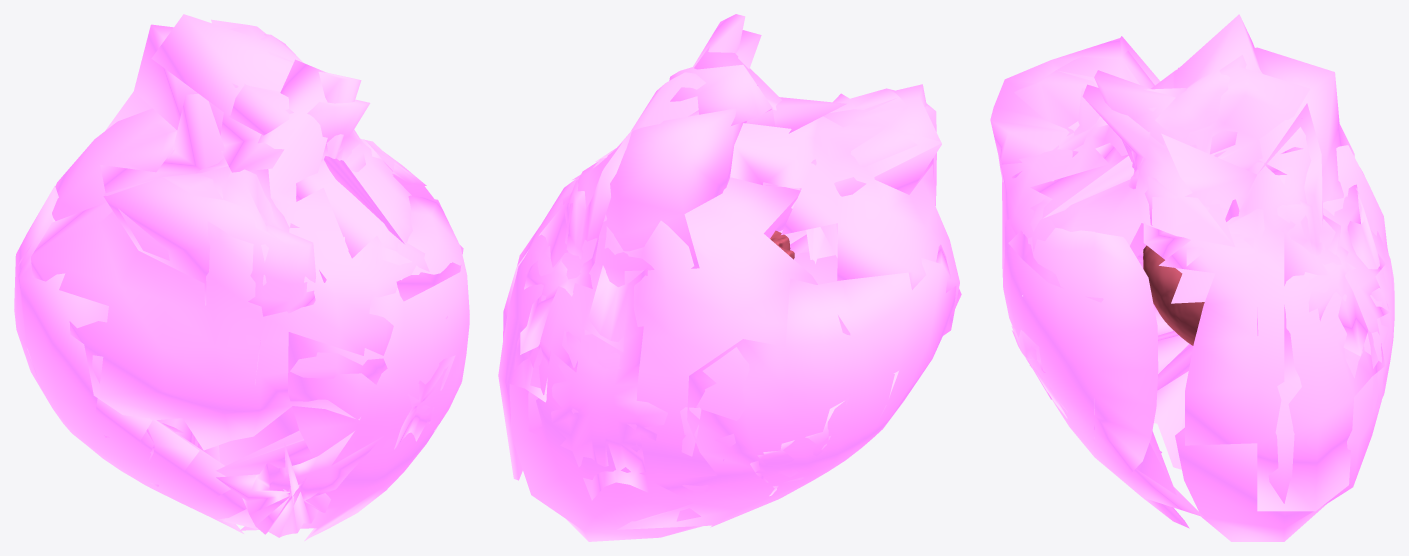
The model's file is heart-organ-progressing-1.glb.
The picture shows the model from 3 angles, left to right: view 1: azimuth 30°, elevation 25°; view 2: azimuth 150°, elevation 25°; view 3: azimuth 270°, elevation 25°; orthographic projection. The views are drawn at different scales.
Parts seen in each view (by area): view 1: Amyloid_1, Amyloid_0, Amyloid_4, Amyloid_3, Amyloid_2, Amyloid_5, Amyloid_6; view 2: Amyloid_2, Amyloid_3, Amyloid_1, Amyloid_6, Amyloid_4, Amyloid_0; view 3: Amyloid_6, Amyloid_0, Amyloid_4, Amyloid_2, Amyloid_1, Amyloid_3, mesh_base_material_0.
Part boxes in pixels (x1=…): Amyloid_1: x1=31, y1=59, x2=447, y2=450; Amyloid_0: x1=216, y1=195, x2=469, y2=541; Amyloid_4: x1=151, y1=14, x2=463, y2=301; Amyloid_3: x1=14, y1=186, x2=246, y2=533; Amyloid_2: x1=18, y1=108, x2=299, y2=465; Amyloid_5: x1=216, y1=431, x2=383, y2=537; Amyloid_6: x1=105, y1=24, x2=433, y2=198; Amyloid_2: x1=503, y1=157, x2=850, y2=541; Amyloid_3: x1=617, y1=244, x2=961, y2=529; Amyloid_1: x1=694, y1=46, x2=959, y2=335; Amyloid_6: x1=498, y1=85, x2=757, y2=480; Amyloid_4: x1=572, y1=14, x2=846, y2=179; Amyloid_0: x1=776, y1=208, x2=841, y2=284; Amyloid_6: x1=1143, y1=47, x2=1390, y2=511; Amyloid_0: x1=1002, y1=196, x2=1204, y2=528; Amyloid_4: x1=1008, y1=14, x2=1309, y2=302; Amyloid_2: x1=1175, y1=145, x2=1394, y2=541; Amyloid_1: x1=990, y1=36, x2=1186, y2=296; Amyloid_3: x1=1137, y1=250, x2=1193, y2=469; mesh_base_material_0: x1=1143, y1=245, x2=1204, y2=345.
Size of the model in its own units: 5.37 by 6.61 by 5.15.
